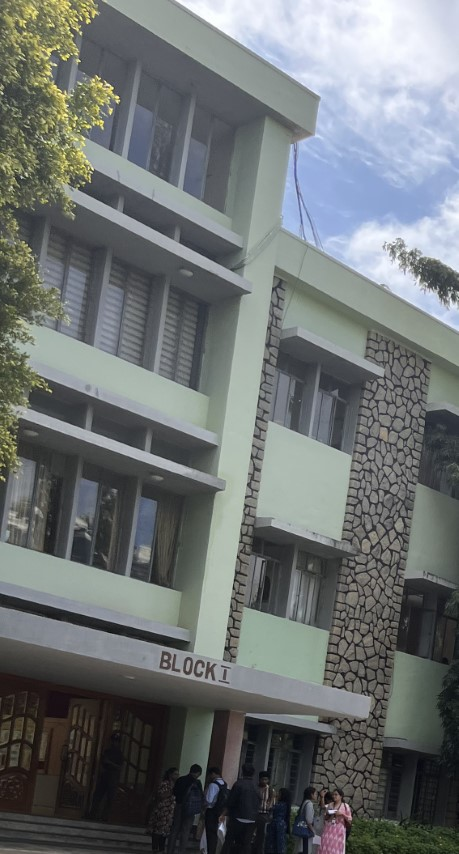Block 1: (30, 1, 454, 794)
